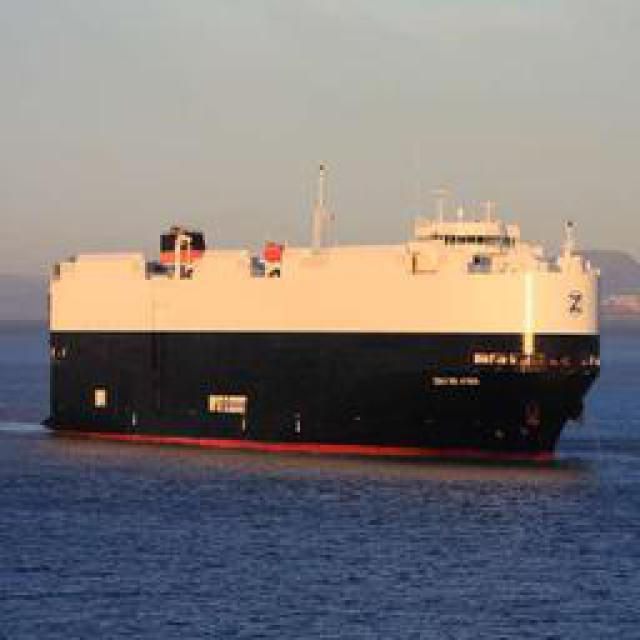Ship: (21, 154, 604, 471)
